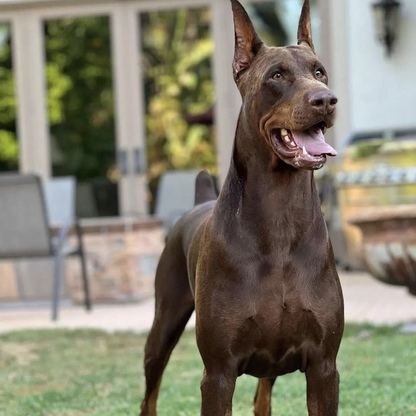doberman: (136, 9, 365, 415)
